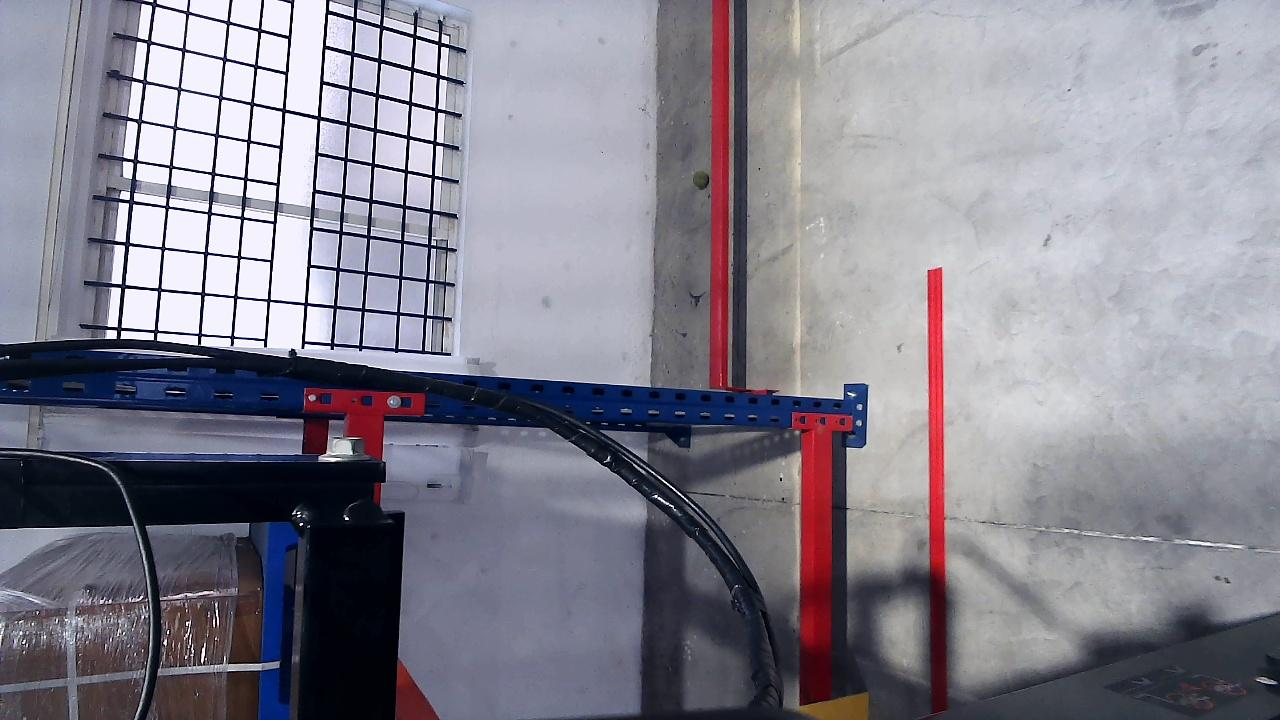h_rack: (705, 2, 730, 389), (802, 429, 833, 713)
orange_strip: (799, 693, 868, 719)
red_line: (924, 270, 950, 717)
